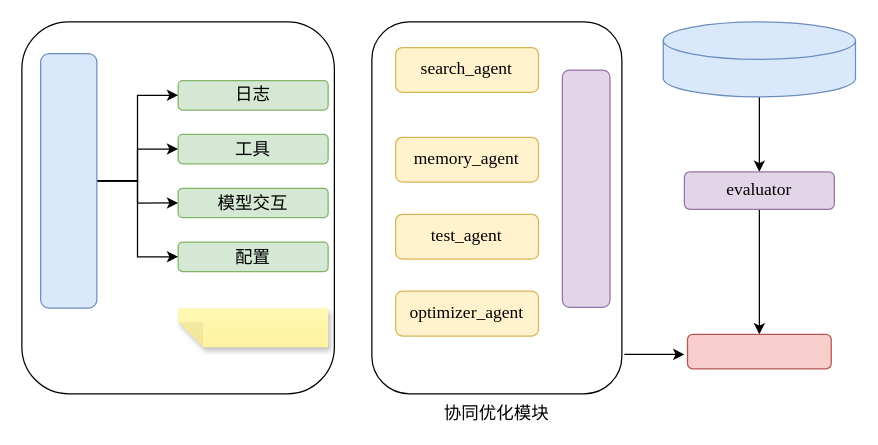
Some shapes in this 878 by 445 pixel diagram are drawn without their labels. Each missing label, with the centre of its shape:
"code dataset" goes at [759,59].
"coordinator" goes at [585,188].
"MstageRunner" goes at [758,351].
"TOML 配置文件" goes at [253,328].
"vLLM / Ollama api node" goes at [68,180].
